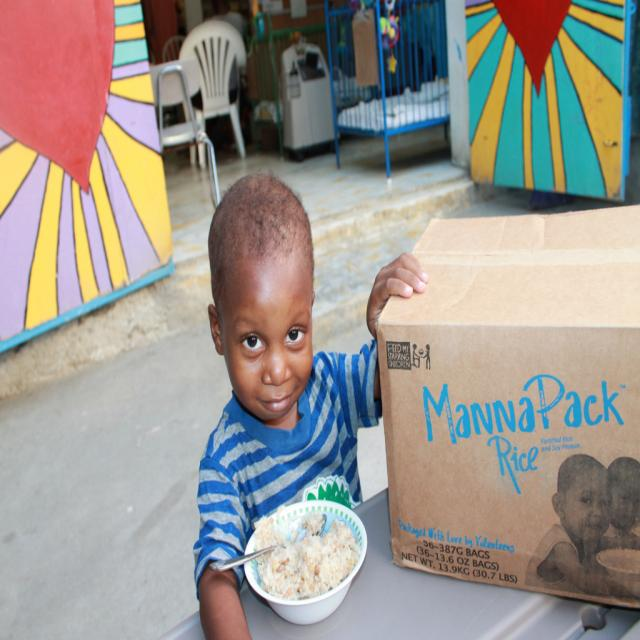Box: (377, 204, 640, 610)
